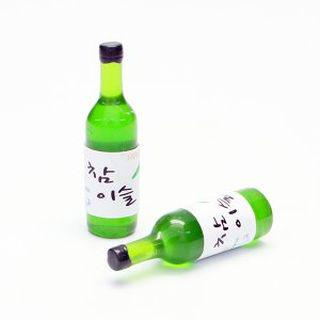soju: (74, 39, 281, 272)
